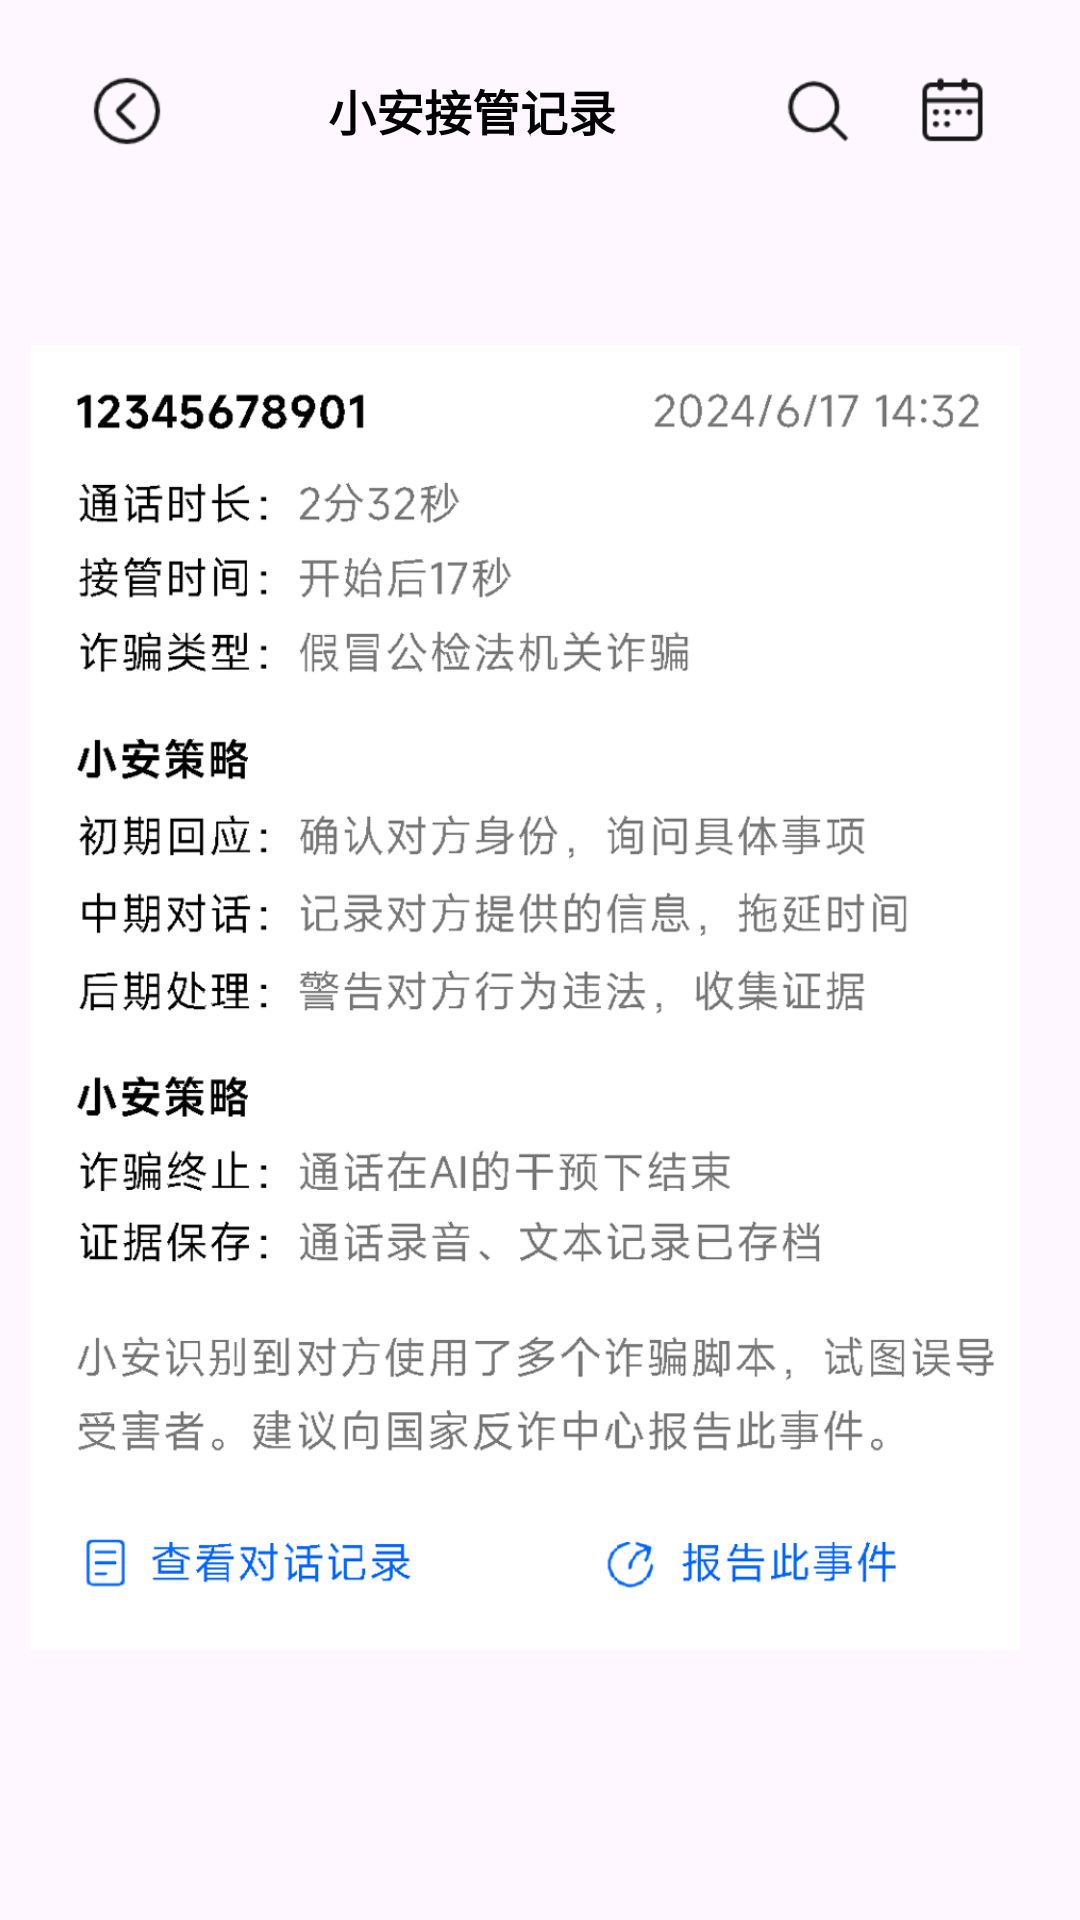

Locate icon controls on the screen. Image size 1080x1920, boxes as (x1, y1, x2, y2).
calendar: (922, 78, 983, 142)
chevron left circle: (93, 77, 161, 145)
magnifyingglass: (787, 80, 848, 141)
